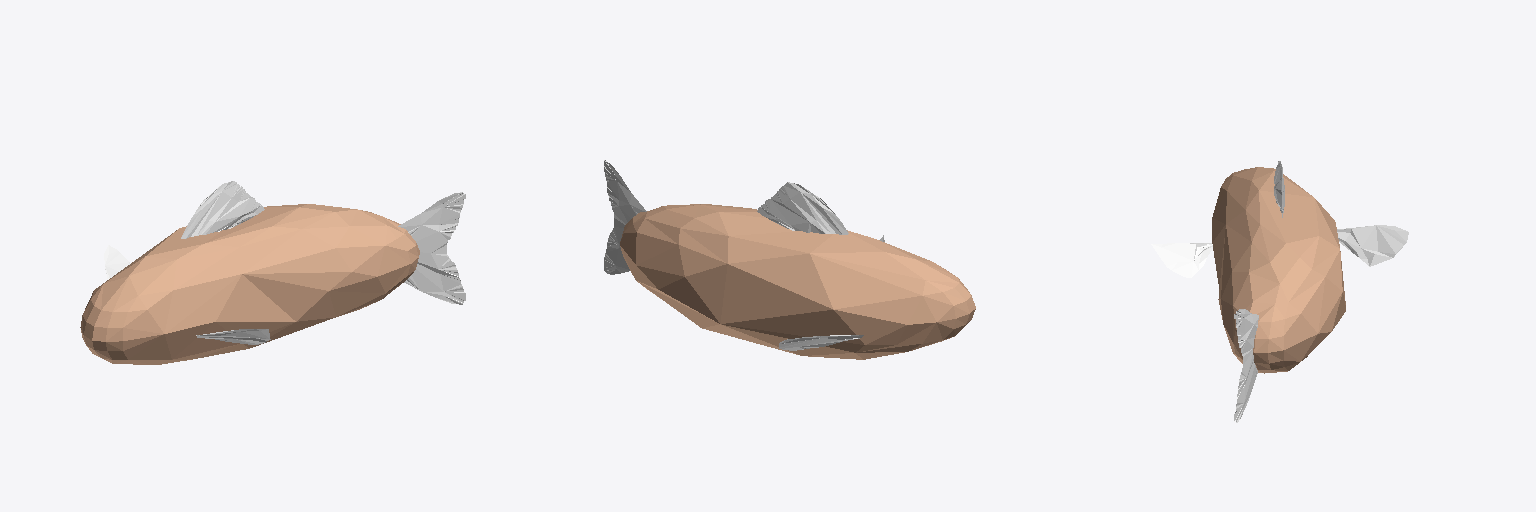
The model's file is fishLL.obj.
3 renders of one model, left to right at view 1: azimuth 30°, elevation 25°; view 2: azimuth 150°, elevation 25°; view 3: azimuth 270°, elevation 25°, orthographic.
Parts seen in each view (by area): view 1: Sphere001, object9, object2, object4; view 2: Sphere001, object2, object9, object5; view 3: Sphere001, object5, object9, object4.
Boxes of the visible parts, <box> form: Sphere001: <box>80,204,419,364</box>; object9: <box>398,192,465,304</box>; object2: <box>181,181,264,238</box>; object4: <box>196,329,270,344</box>; Sphere001: <box>620,204,975,359</box>; object2: <box>757,182,848,234</box>; object9: <box>604,160,646,274</box>; object5: <box>779,335,863,350</box>; Sphere001: <box>1212,167,1345,373</box>; object5: <box>1337,225,1408,266</box>; object9: <box>1234,309,1258,422</box>; object4: <box>1151,243,1212,277</box>.
Bounding box in the file's own units: 3.51 × 1.43 × 2.1.